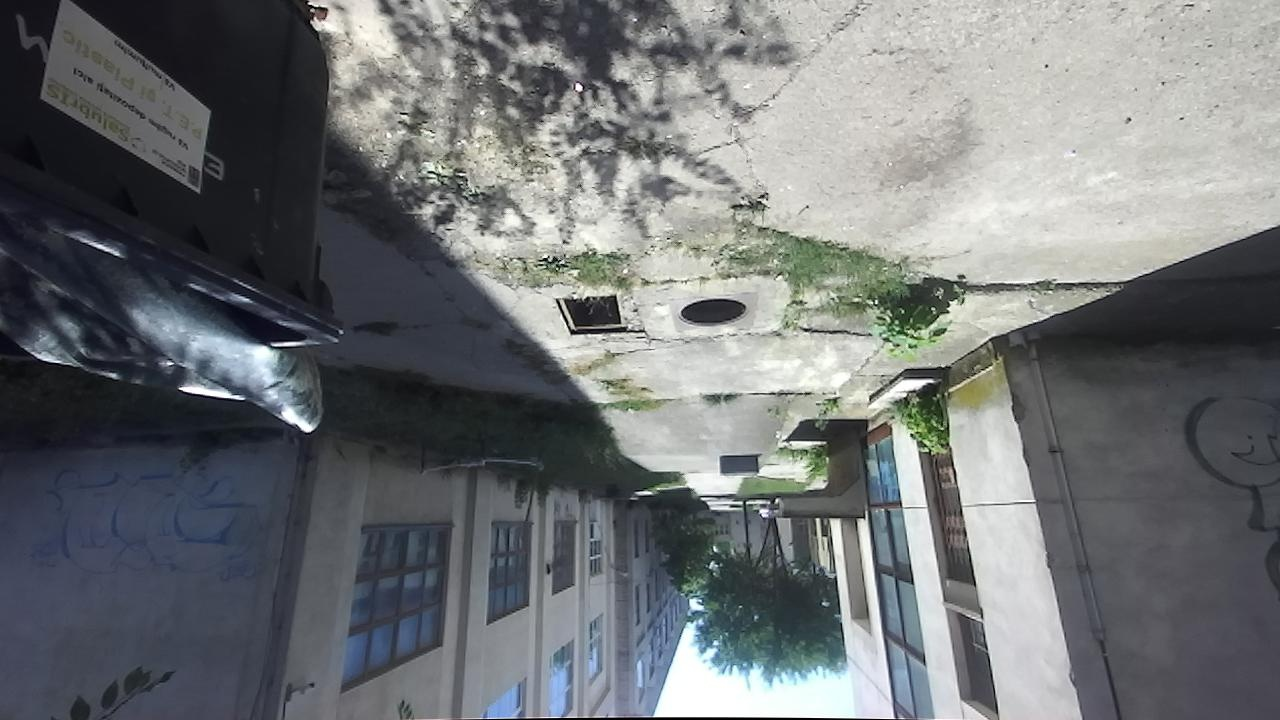drain: (550, 292, 630, 335), (669, 294, 750, 329)
